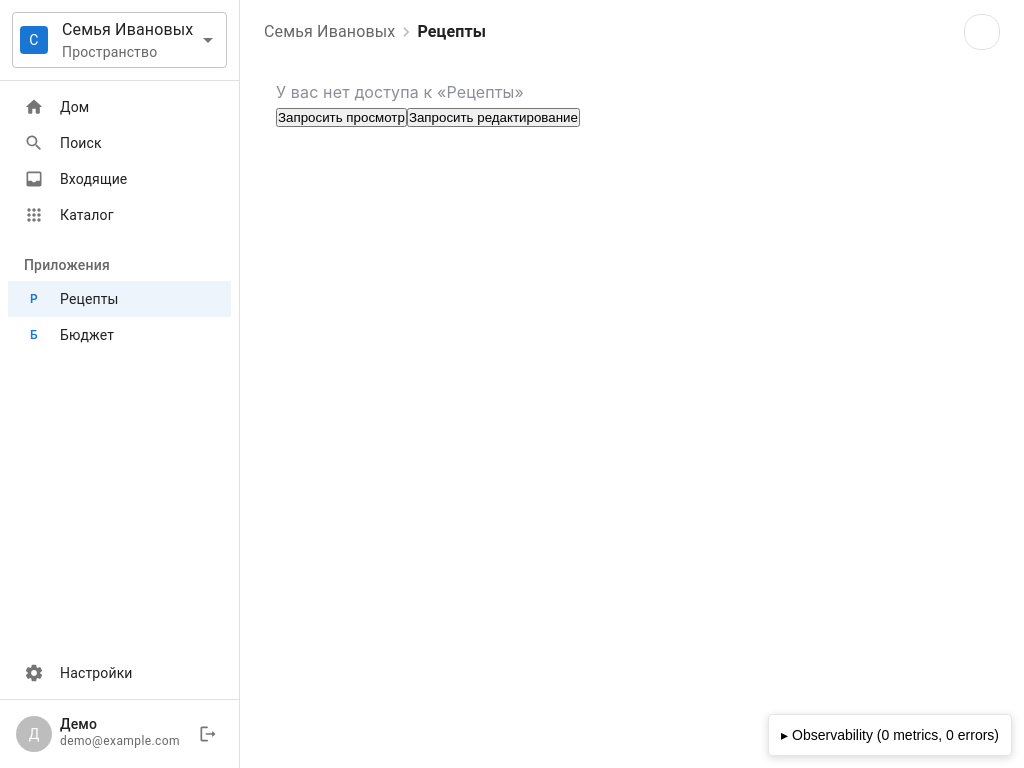
HostChrome › access › does not load an app without a grant and offers to request access
Expected: the text "У вас нет доступа к «Рецепты»" is shown, [276, 82, 524, 102]
Click the button "Запросить просмотр": {"x": 341, "y": 118} [276, 108, 407, 127]
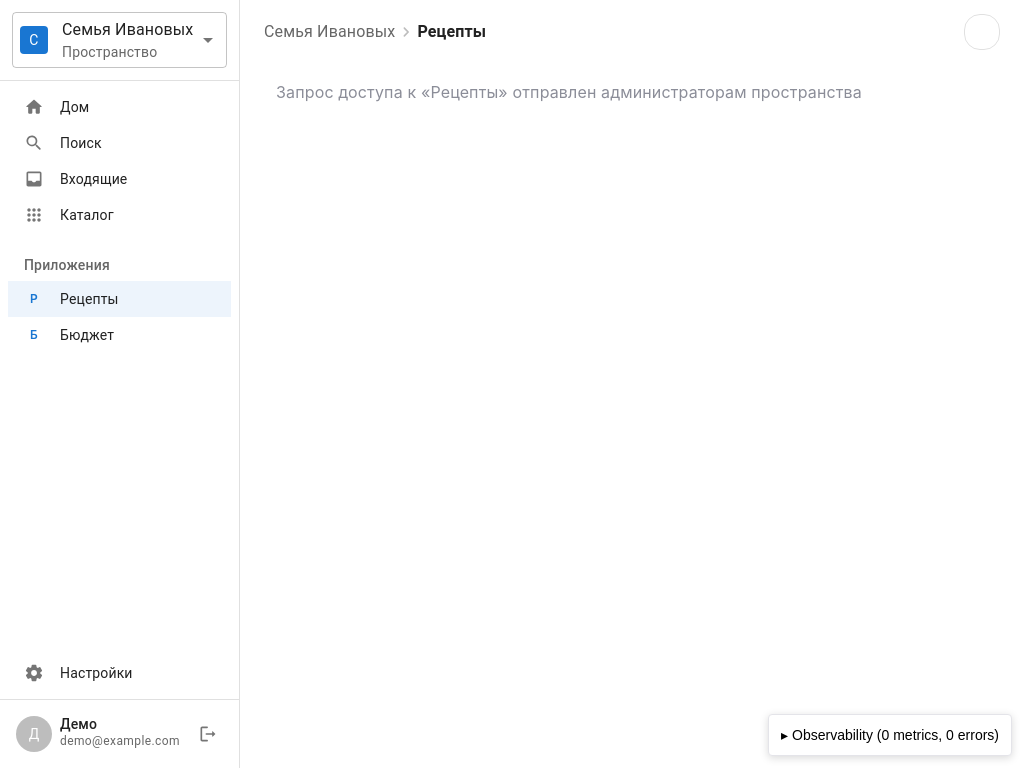
Expected: the text "Запрос доступа к «Рецепты» отправлен" is shown, [276, 82, 862, 102]
